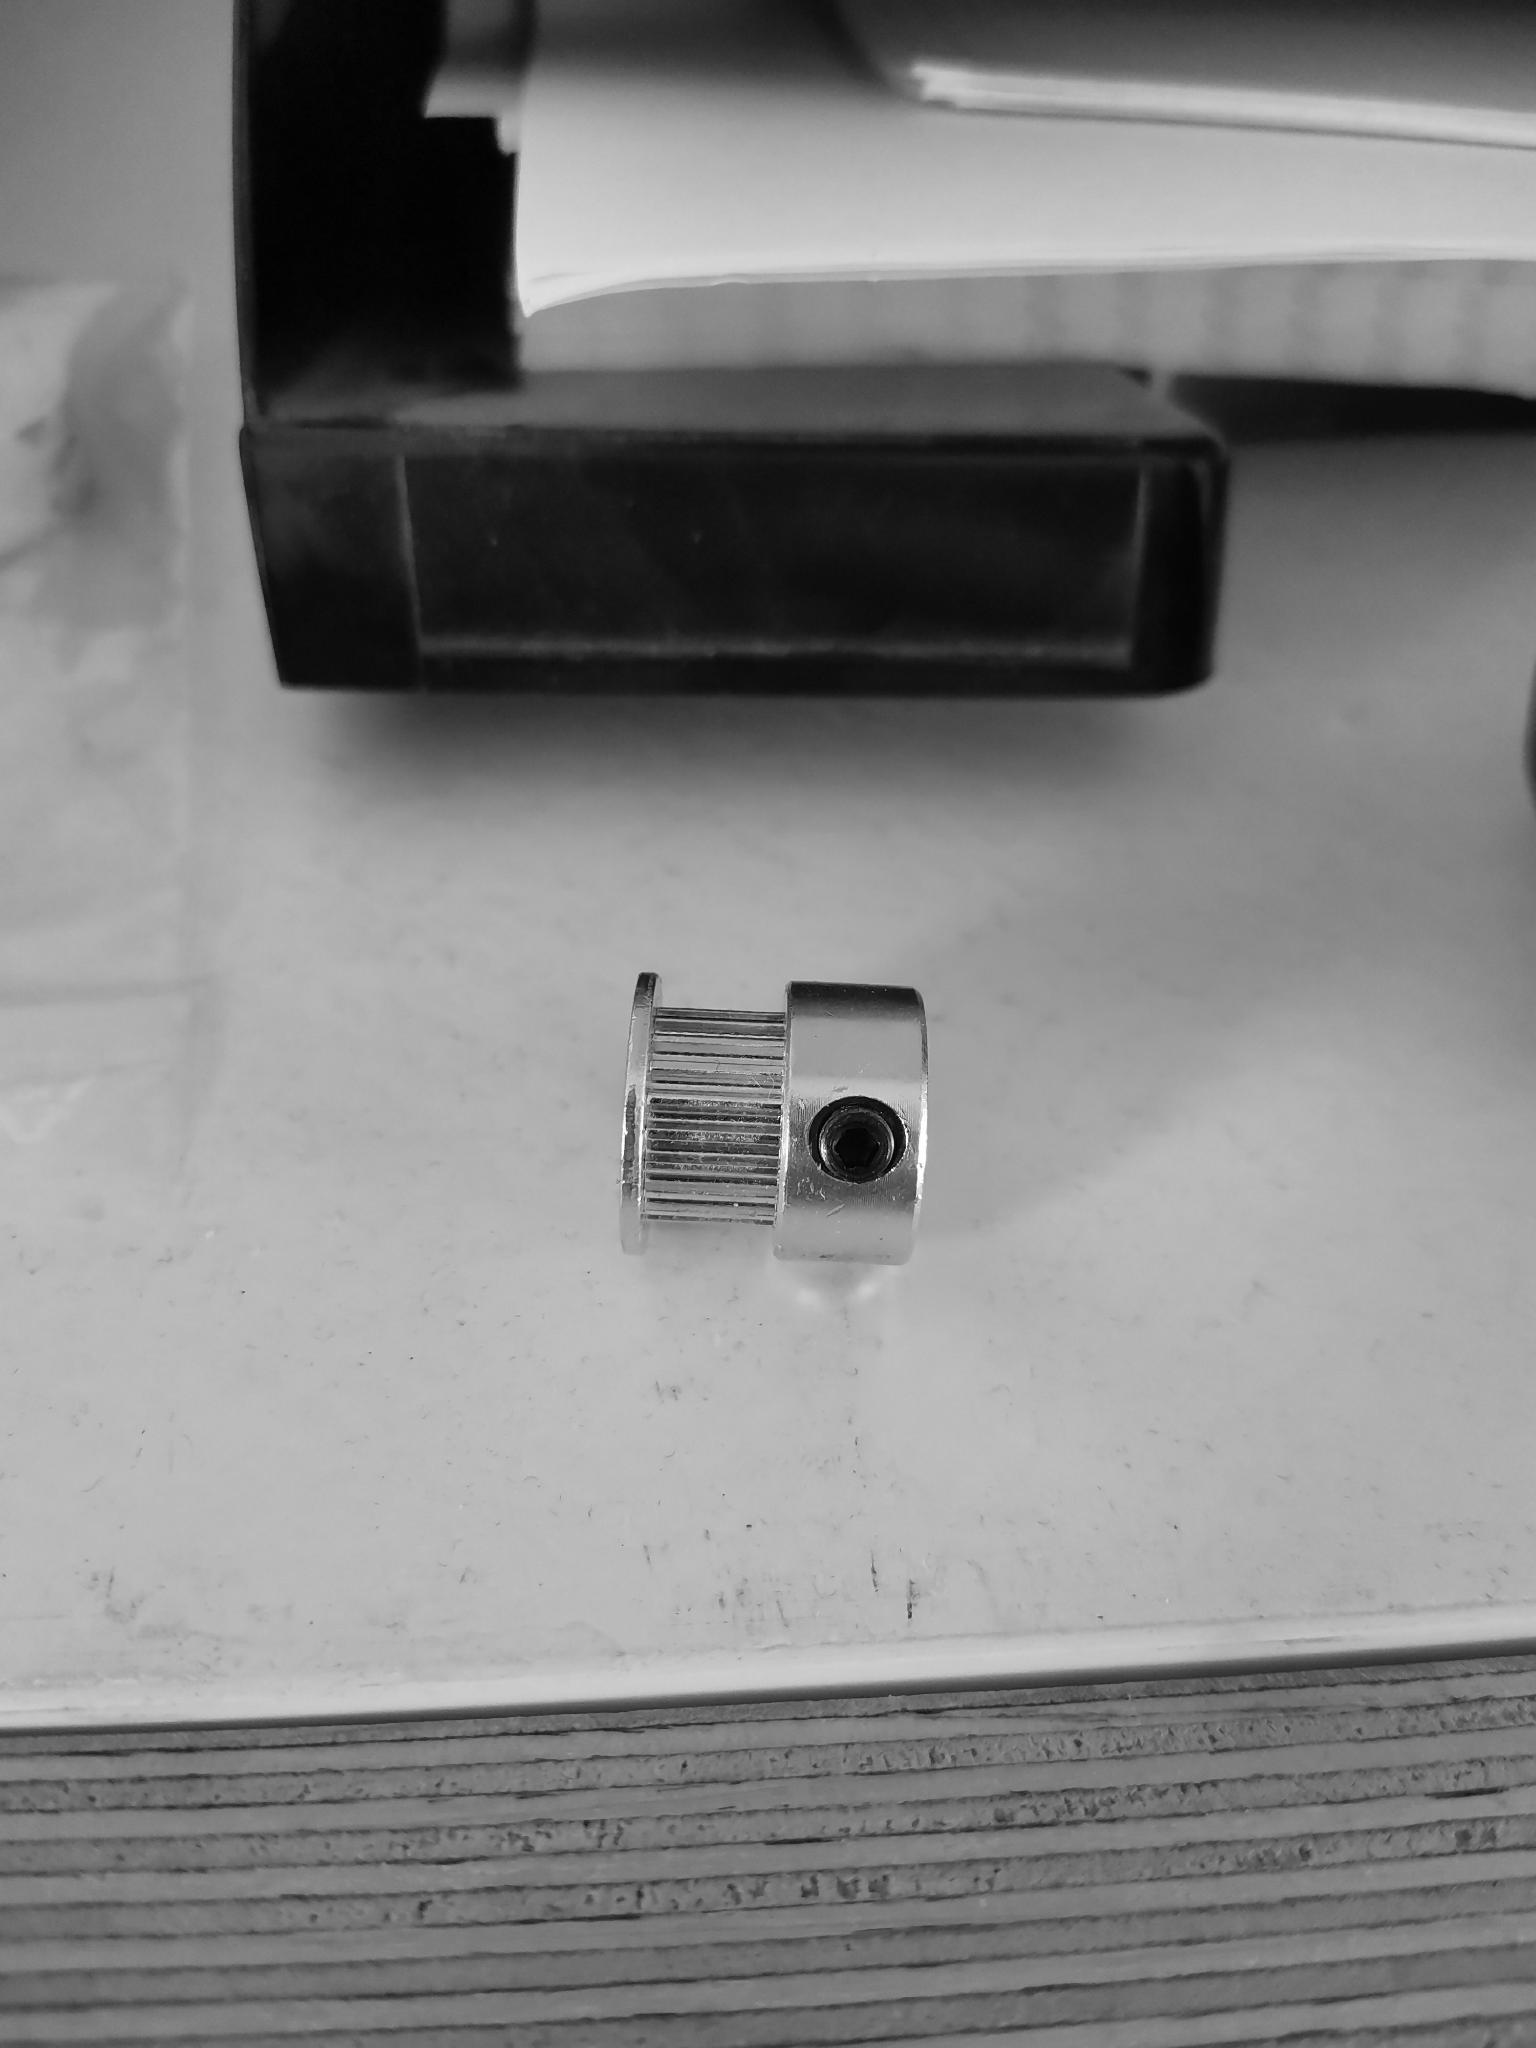screw: (808, 1098, 902, 1190)
